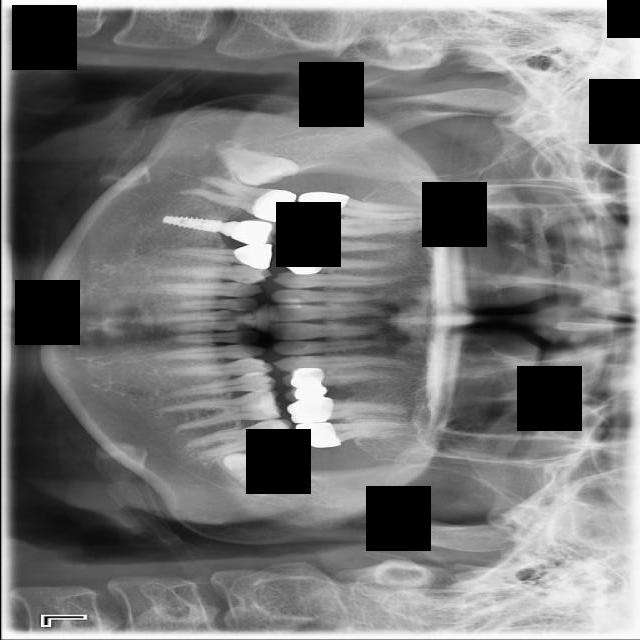52: (241, 175, 297, 231), (229, 211, 280, 253), (284, 394, 339, 429), (290, 190, 351, 220), (280, 212, 332, 242), (238, 388, 283, 422), (293, 421, 341, 450), (229, 244, 273, 270), (265, 303, 316, 323), (280, 235, 325, 257), (279, 368, 327, 388), (281, 385, 327, 405), (281, 254, 323, 275), (268, 289, 310, 306)
73: (60, 583, 72, 586)
BioHorizons Implant: (295, 420, 419, 449)
Biomet 3i Implant: (217, 447, 292, 501)
Blue Sky Bio Implant: (181, 415, 299, 464)
Caries: (291, 189, 419, 225)
Implant: (185, 174, 297, 225)
Keystone Dental Implant: (208, 142, 300, 195)
